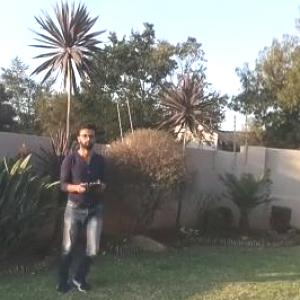follow: (42, 124, 117, 299)
